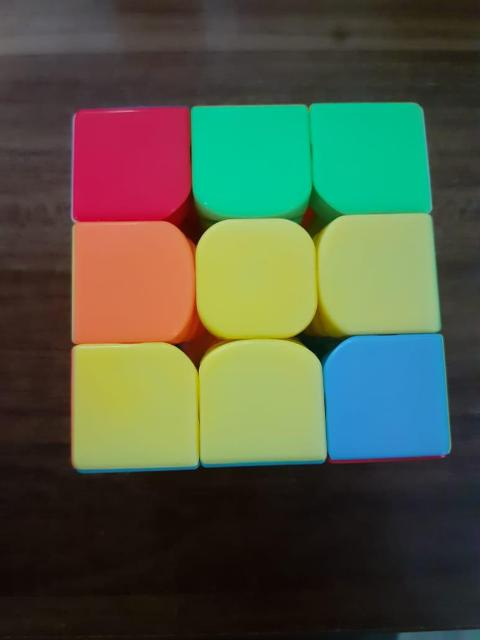Blue: (326, 338, 448, 458)
Green: (192, 109, 310, 215), (316, 107, 428, 207)
Orange: (73, 223, 189, 339)
Red: (77, 115, 184, 215)
Yellow: (70, 348, 200, 472), (198, 344, 326, 464), (321, 213, 437, 331), (198, 222, 314, 338)
